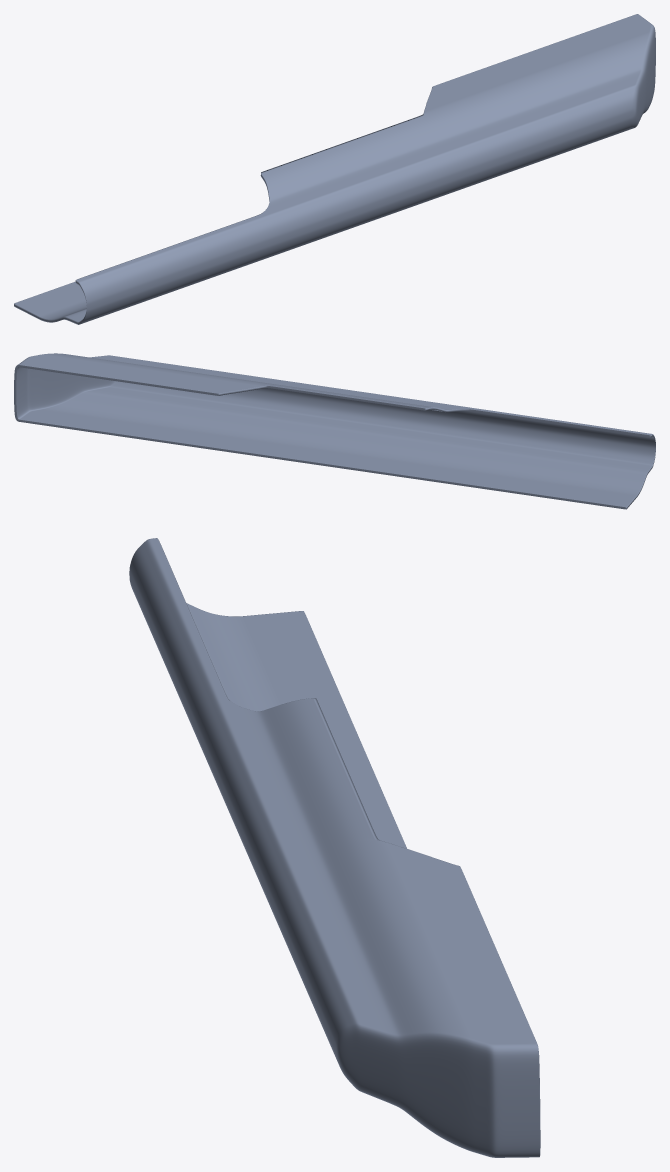
The picture shows the model from 3 angles, top to bottom: view 1: azimuth 30°, elevation 25°; view 2: azimuth 150°, elevation 25°; view 3: azimuth 270°, elevation 25°; orthographic projection. The views are drawn at different scales.
Parts seen in each view (by area): view 1: Plane.004; view 2: Plane.004; view 3: Plane.004.
Part boxes in pixels (x1,y1,x2,y2): Plane.004: (14,14,655,324); Plane.004: (14,353,655,509); Plane.004: (129,538,540,1157).
Size of the model in its own units: 0.1783 by 0.018 by 0.0574.
